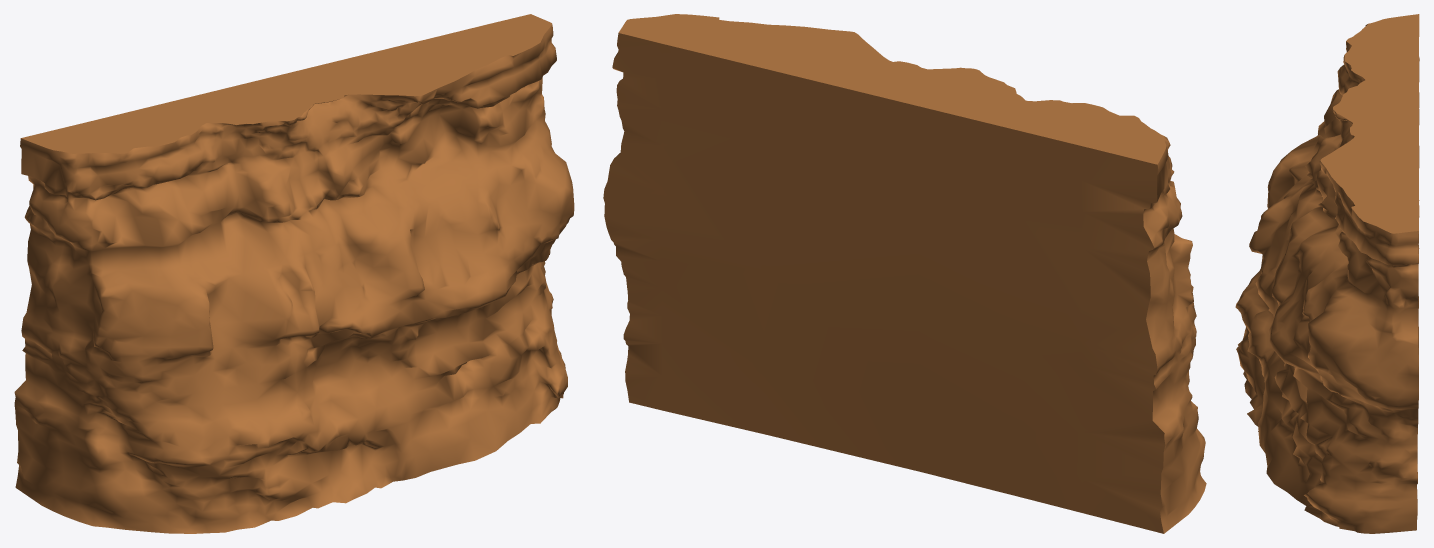
The model's file is MSH_Rocks_Cliff_26_b.FBX.
3 renders of one model, left to right at view 1: azimuth 30°, elevation 25°; view 2: azimuth 150°, elevation 25°; view 3: azimuth 270°, elevation 25°, orthographic. The views are drawn at different scales.
Visible parts, largest first — view 1: MESH_LOD0, CAP_LOD0; view 2: CAP_LOD0, MESH_LOD0; view 3: MESH_LOD0, CAP_LOD0.
Part boxes in pixels (x1,y1,x2,y2): MESH_LOD0: (14,24,574,533); CAP_LOD0: (21,14,551,153); CAP_LOD0: (603,14,1166,533); MESH_LOD0: (613,52,1206,533); MESH_LOD0: (1235,24,1418,533); CAP_LOD0: (1320,14,1419,502).
Size of what is drawn, in the model's own units: 1055 by 661 by 363.
